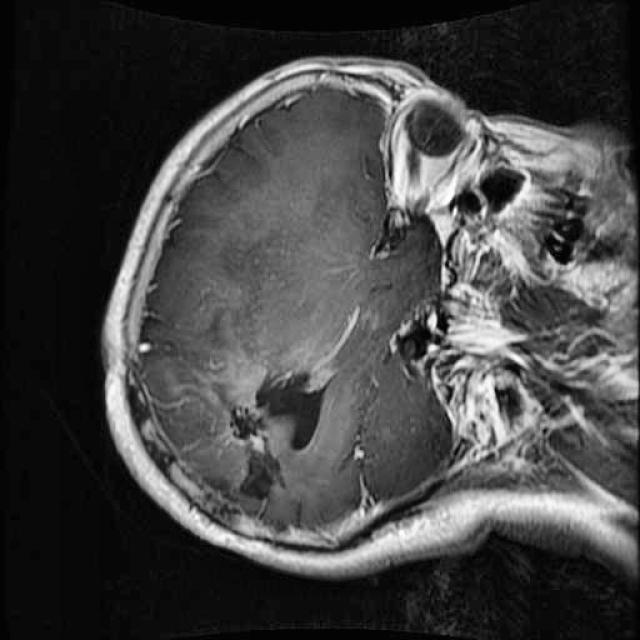Tumor: (171, 335, 384, 550)
